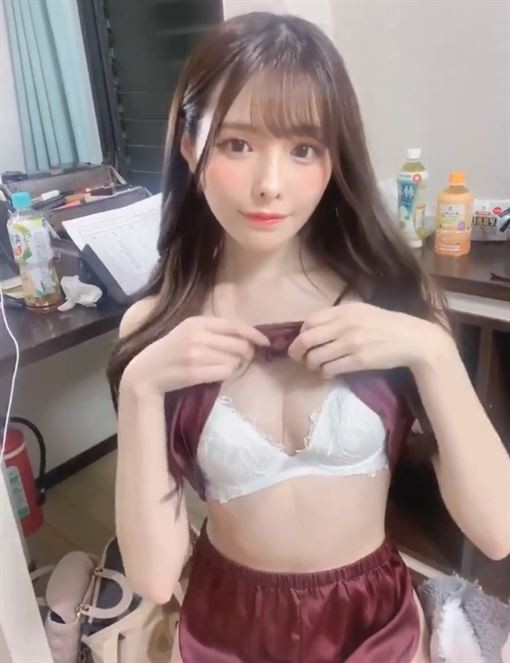people: (100, 6, 433, 663)
